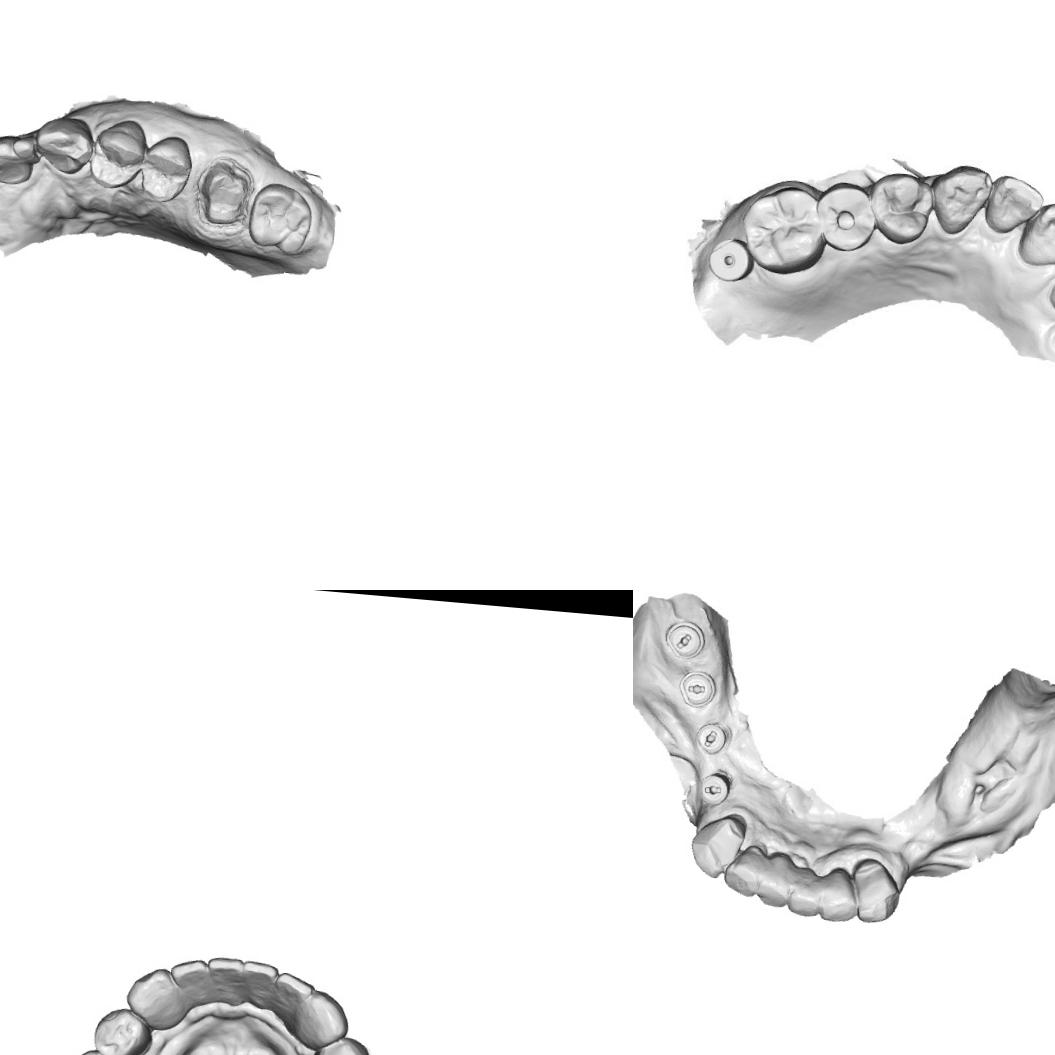canine: (686, 810, 750, 882), (32, 110, 98, 178), (123, 965, 187, 1033), (846, 854, 904, 926), (935, 164, 992, 232), (292, 987, 350, 1049)
crown: (188, 150, 255, 238)
implant: (702, 231, 754, 286)
implant_minus: (662, 618, 709, 661), (674, 667, 718, 710), (696, 768, 734, 808), (693, 719, 732, 756)
incisor: (984, 174, 1040, 238), (815, 864, 862, 926), (754, 850, 798, 909), (720, 841, 764, 898), (202, 955, 246, 1008), (1022, 203, 1055, 270), (167, 956, 210, 1006), (0, 129, 35, 187), (239, 958, 278, 1010), (786, 863, 822, 917), (272, 969, 316, 1012)
molar: (736, 184, 824, 272), (242, 177, 317, 258)
premolar: (86, 114, 150, 193), (134, 131, 194, 206), (816, 182, 878, 252), (874, 171, 932, 234), (90, 1004, 155, 1055), (309, 1032, 371, 1055)
